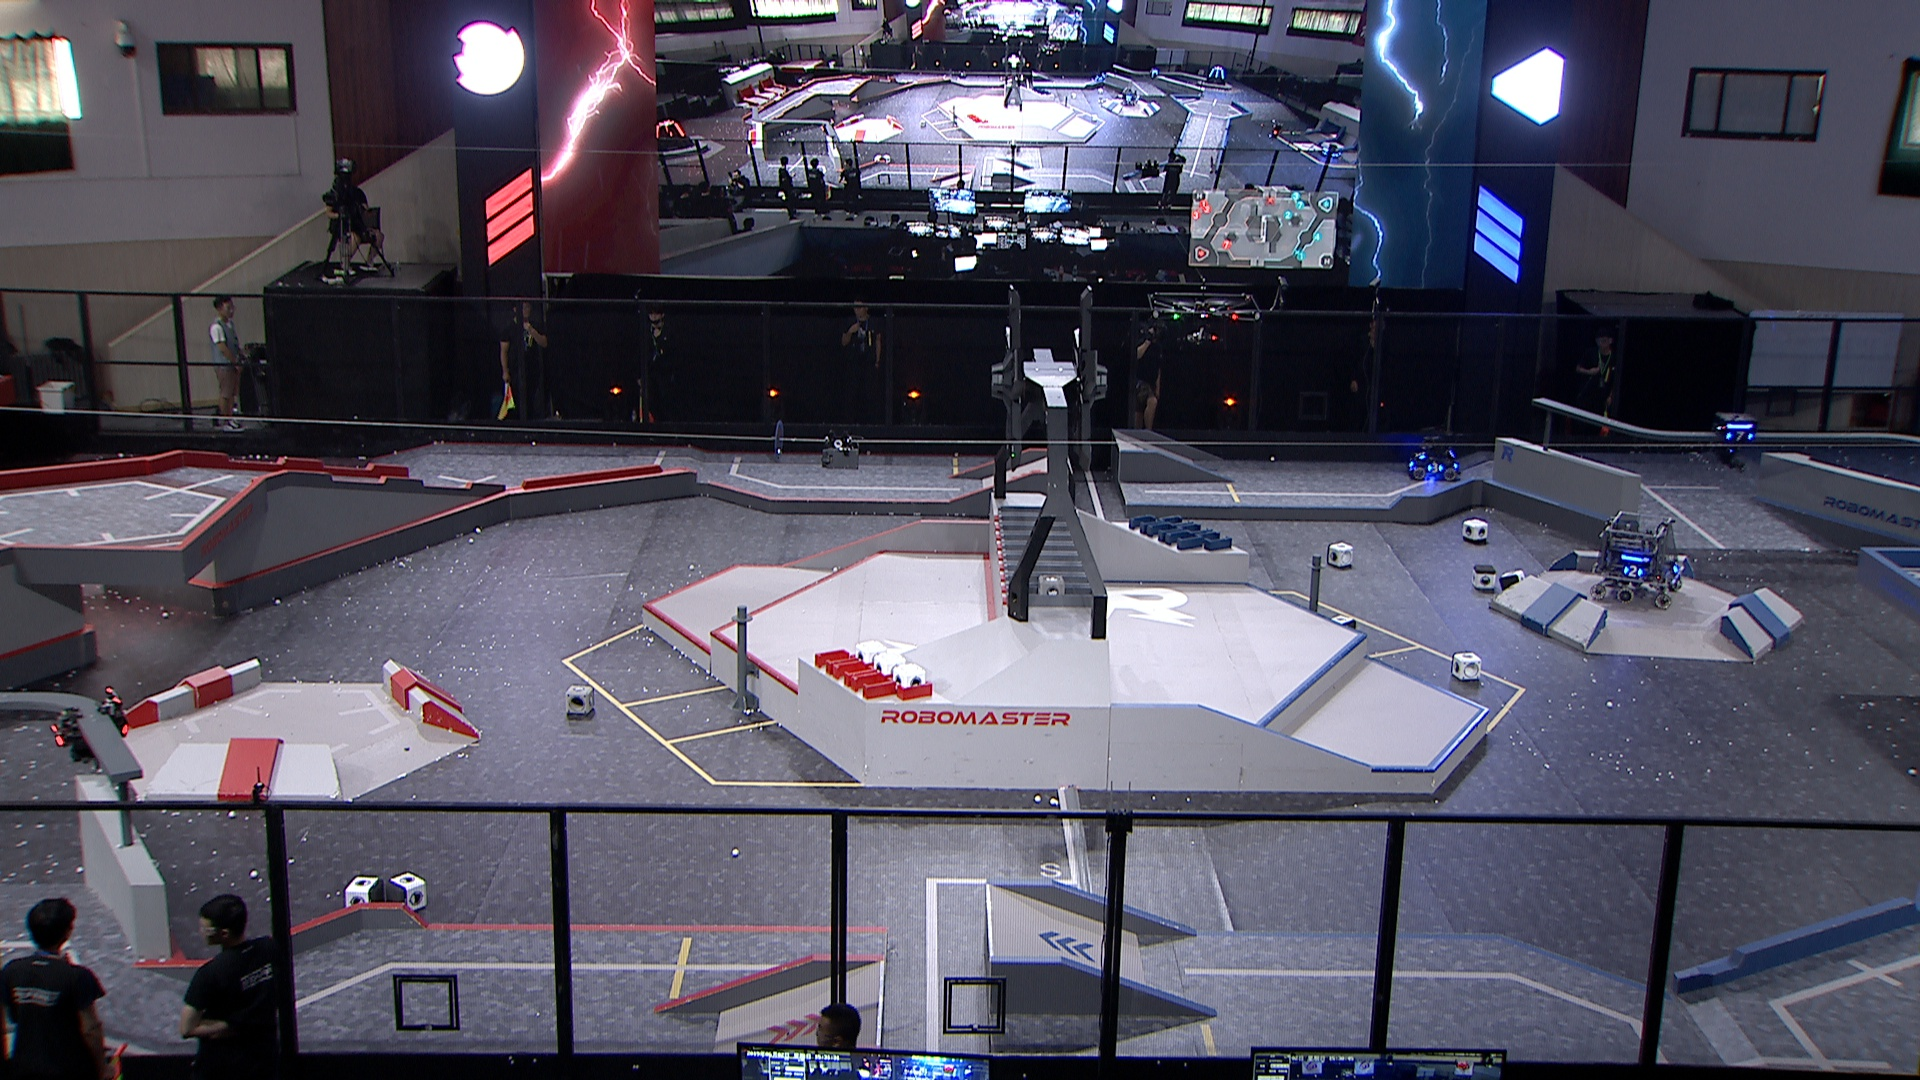armor: (46, 723, 73, 749), (1724, 429, 1756, 444), (1621, 562, 1643, 580), (1425, 462, 1447, 475), (1414, 446, 1429, 462), (1669, 560, 1685, 575)
car: (1586, 502, 1693, 609), (1400, 433, 1462, 484)
ignore: (654, 116, 695, 154), (1315, 138, 1340, 161), (1205, 65, 1232, 86), (1120, 86, 1138, 107)
watcher: (49, 683, 133, 767), (1706, 407, 1760, 471)
